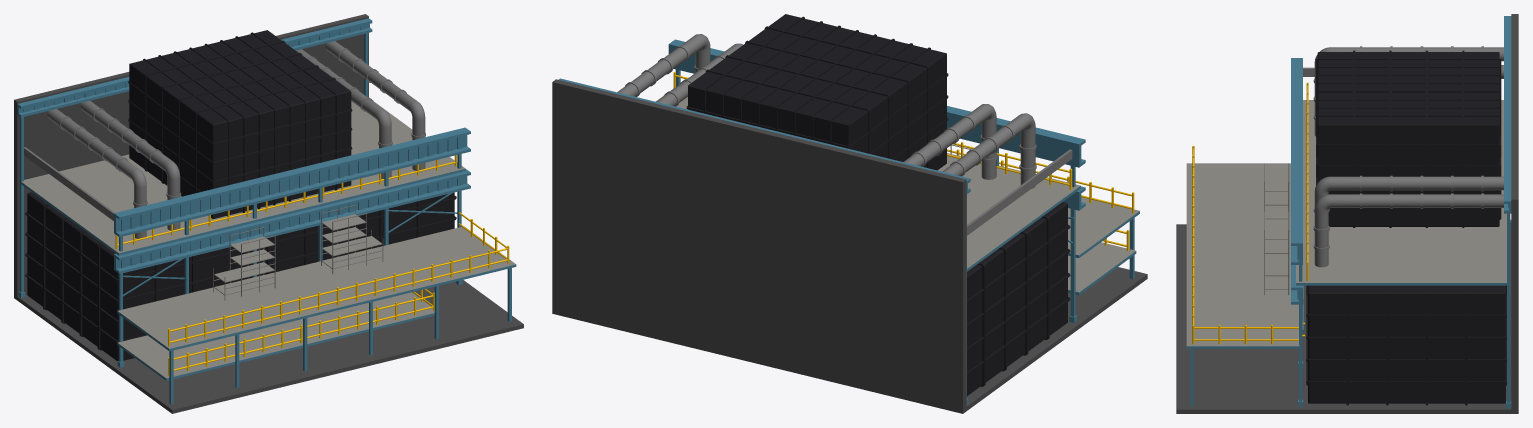
3 renders of one model, left to right at view 1: azimuth 30°, elevation 25°; view 2: azimuth 150°, elevation 25°; view 3: azimuth 270°, elevation 25°, orthographic. The views are drawn at different scales.
Parts seen in each view (by area): view 1: Box1760, Box1751, Box1754, Object104, Object106, Box1757, Object102, Box1758, Box1761, Box1768, Rectangle011, Rectangle009 (+13 smaller); view 2: Box1751, Box1760, Box1754, Object106, Box1757, Rectangle010, Rectangle011, Object104, Rectangle009, Object102, Box1762, Box1761 (+2 smaller); view 3: Box1760, Box1754, Object104, Box1751, Object106, Rectangle009, Rectangle008, Box1757, Box1768, Box1761, Box1769, Rectangle010 (+8 smaller).
Part boxes in pixels (bbox=[...]): Box1760: bbox=[128, 30, 352, 218]; Box1751: bbox=[14, 14, 523, 413]; Box1754: bbox=[25, 192, 456, 361]; Object104: bbox=[117, 226, 515, 348]; Object106: bbox=[21, 97, 465, 253]; Box1757: bbox=[114, 127, 470, 237]; Object102: bbox=[118, 292, 434, 378]; Box1758: bbox=[114, 169, 470, 273]; Box1761: bbox=[17, 18, 372, 117]; Box1768: bbox=[322, 214, 382, 268]; Rectangle011: bbox=[80, 101, 181, 230]; Rectangle009: bbox=[325, 41, 425, 170]; Box1751: bbox=[552, 79, 1147, 413]; Box1760: bbox=[686, 14, 948, 170]; Box1754: bbox=[967, 202, 1070, 395]; Object106: bbox=[656, 88, 1080, 268]; Box1757: bbox=[668, 39, 1085, 167]; Rectangle010: bbox=[942, 113, 1036, 188]; Rectangle011: bbox=[903, 104, 997, 179]; Object104: bbox=[1068, 197, 1139, 255]; Rectangle009: bbox=[617, 34, 710, 96]; Object102: bbox=[1068, 242, 1135, 292]; Box1762: bbox=[967, 149, 1072, 235]; Box1761: bbox=[558, 78, 970, 194]; Box1760: bbox=[1316, 50, 1501, 227]; Box1754: bbox=[1306, 285, 1506, 405]; Object104: bbox=[1186, 163, 1299, 346]; Box1751: bbox=[1176, 14, 1518, 413]; Object106: bbox=[1296, 100, 1506, 282]; Rectangle009: bbox=[1313, 193, 1503, 267]; Rectangle008: bbox=[1313, 175, 1503, 230]; Box1757: bbox=[1291, 58, 1302, 264]; Box1768: bbox=[1265, 221, 1288, 289]; Box1761: bbox=[1504, 16, 1511, 213]; Box1769: bbox=[1265, 173, 1288, 221]; Rectangle010: bbox=[1313, 46, 1503, 101].
Size of the model in its own units: 189 by 111 by 147.
